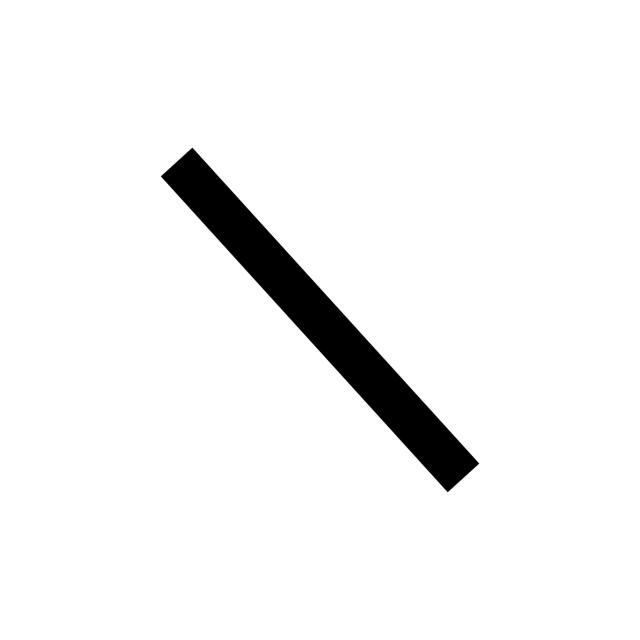line: (160, 148, 479, 492)
